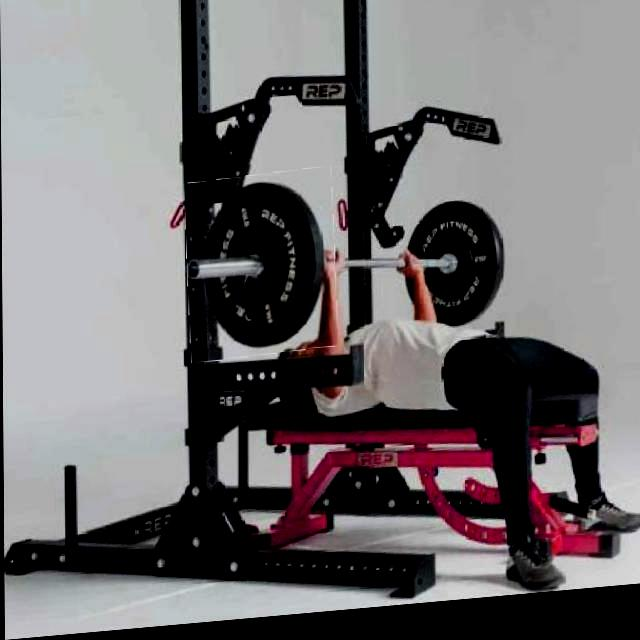barbell: (186, 173, 337, 367)
